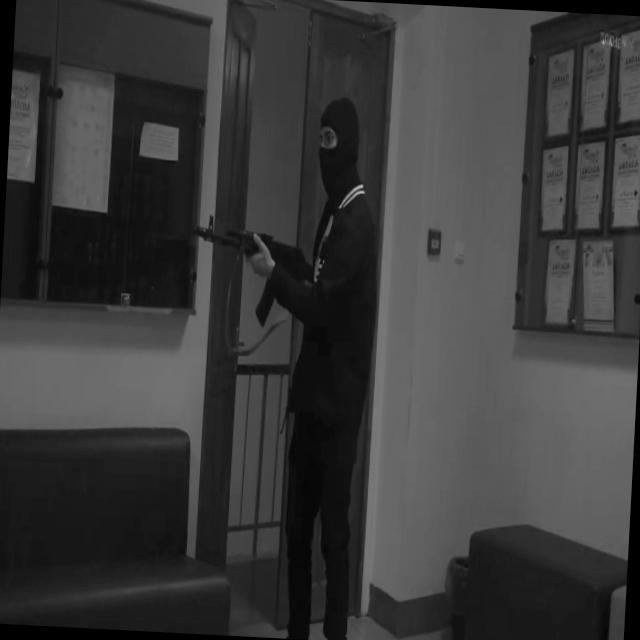gun: (189, 211, 324, 331)
person with a gun: (172, 89, 387, 640)
